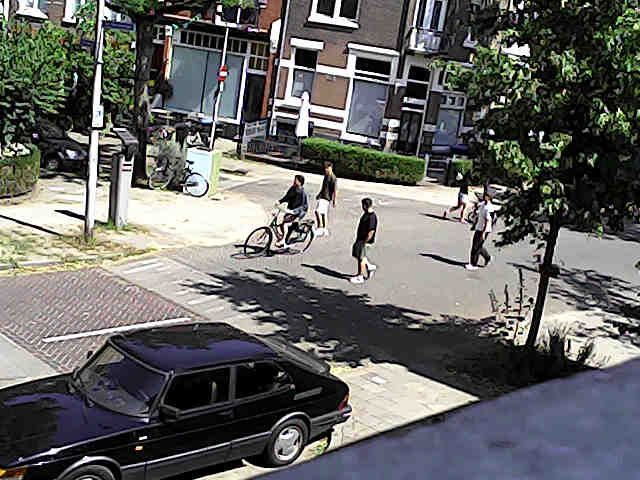male: (350, 198, 377, 283), (276, 174, 307, 247), (465, 189, 493, 269), (315, 161, 336, 236), (443, 171, 469, 221)
suv: (0, 323, 350, 479)
